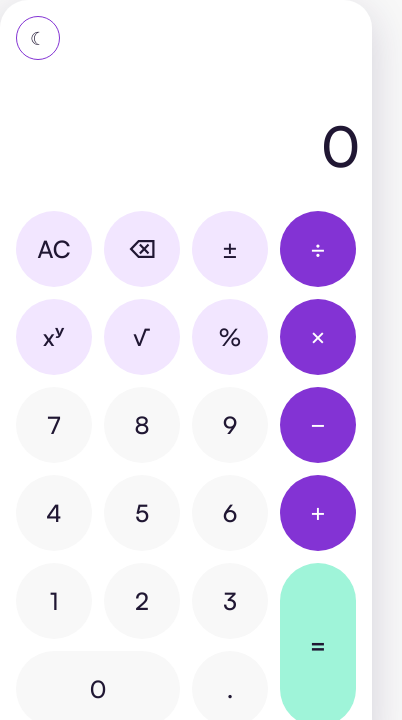
Scenario: evaluates 2 + 3 x 4 via the keypad
Click the button "2" at (142, 601), box [104,563,180,639]
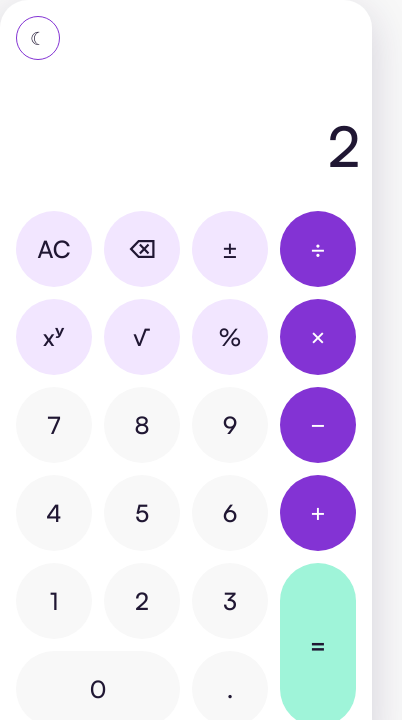
Click the button named "add" at (318, 513), box [280,475,356,551]
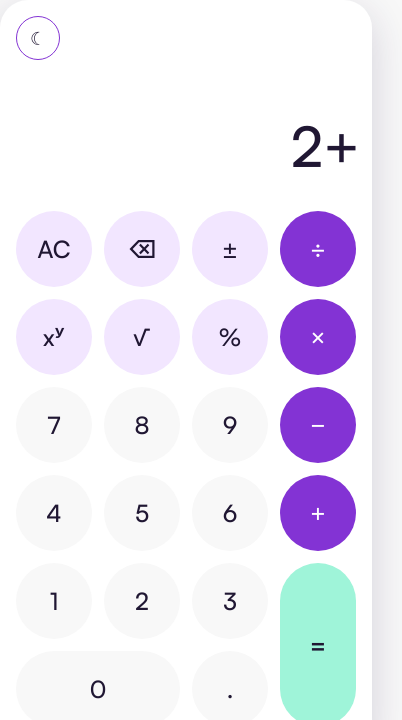
Click the button "3" at (230, 601), box [192,563,268,639]
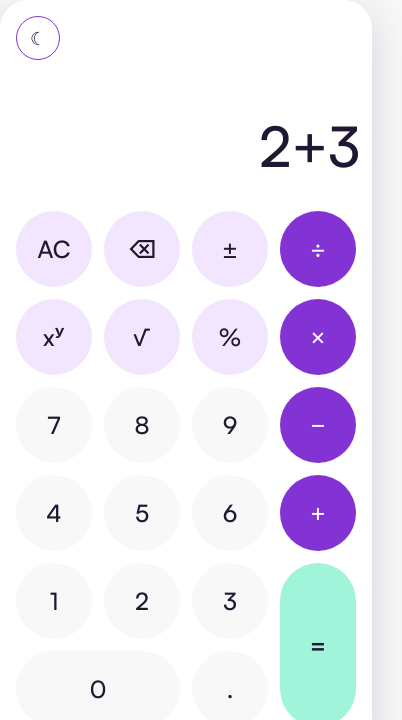
Click the button named "multiply" at (318, 337), box [280,299,356,375]
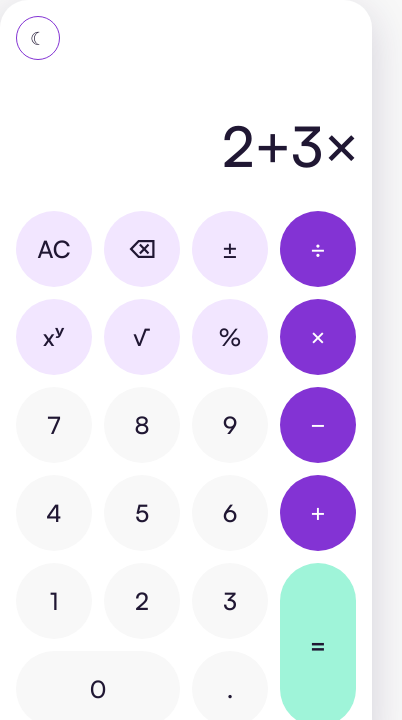
Click the button "4" at (54, 513), box [16,475,92,551]
(page scrolled)
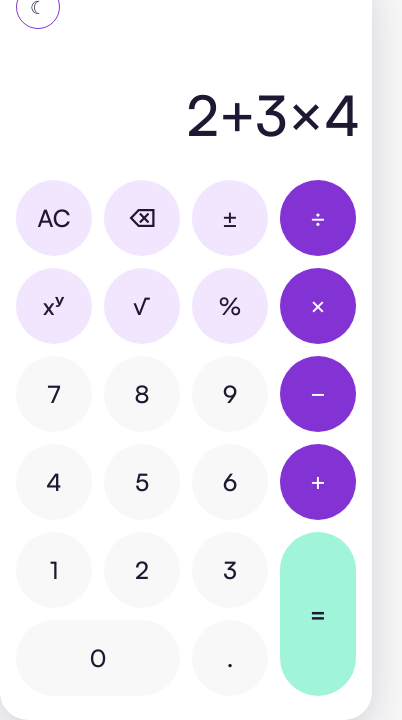
Click the button named "equals" at (318, 614), box [280,532,356,696]
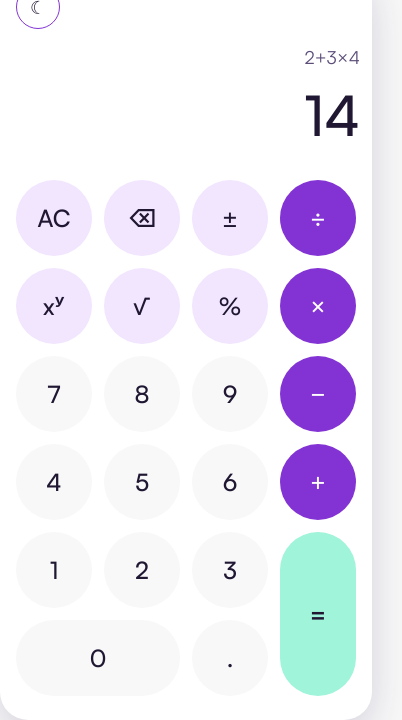
Expected: the text "14" is shown, [304,79,360,149]
Expected: the text "2+3×4" is shown, [305,46,360,68]
